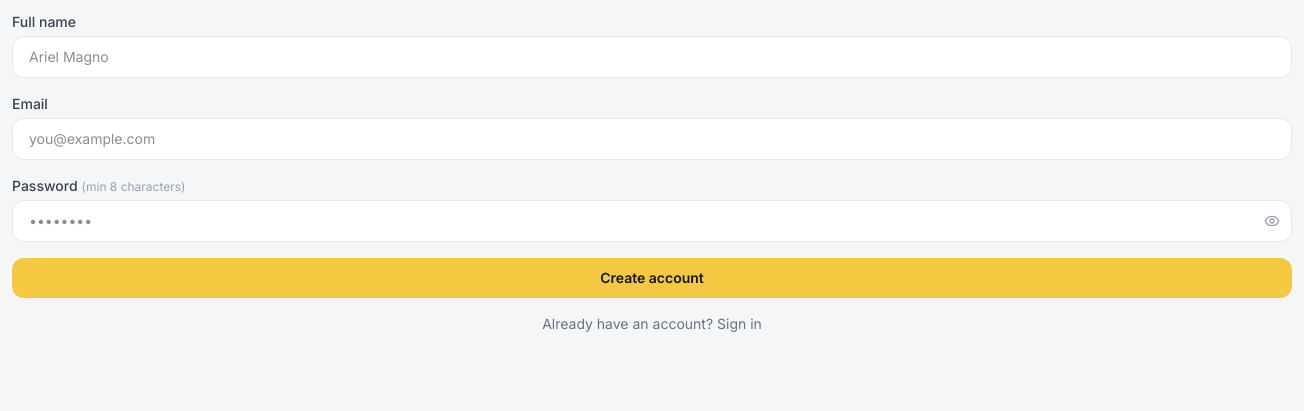
Test case: RegisterForm › clears the duplicate-email error when the user edits the email field
Type "Alice" into the field labelled "Full name" at [652, 57], box [12,36,1292,78]
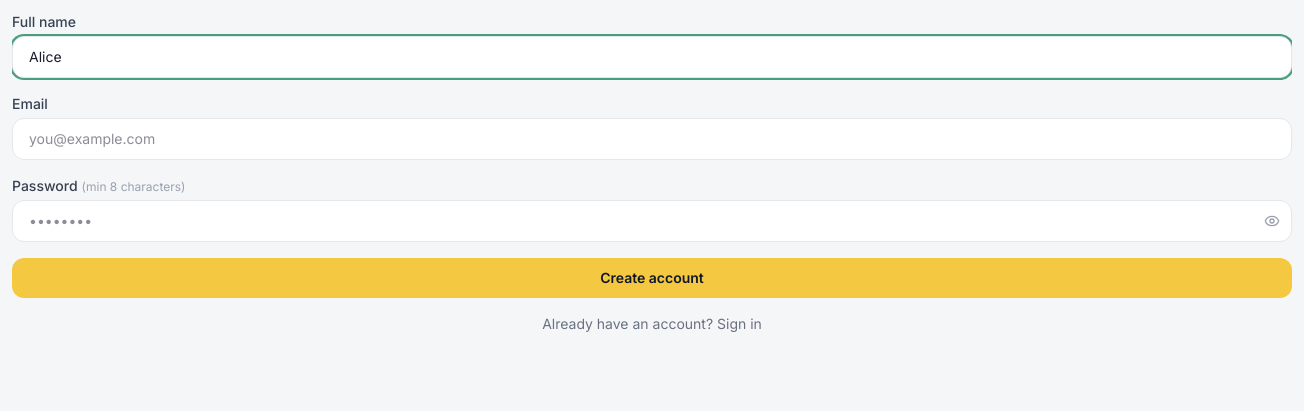
Type "alice@test.com" into the field labelled "Email" at [652, 139], box [12,118,1292,160]
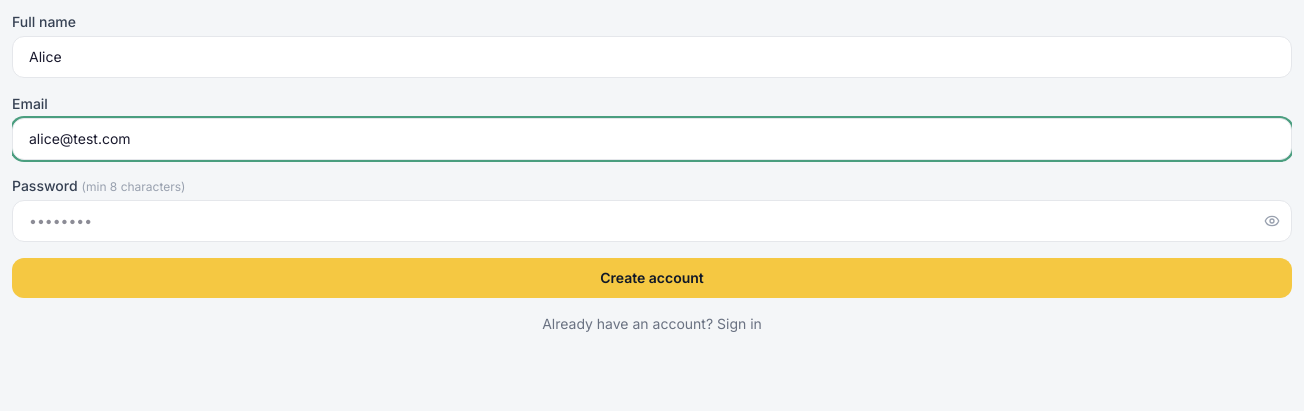
Type "password123" into the password field labelled "Password(min 8 characters)" at [652, 221], box [12,200,1292,242]
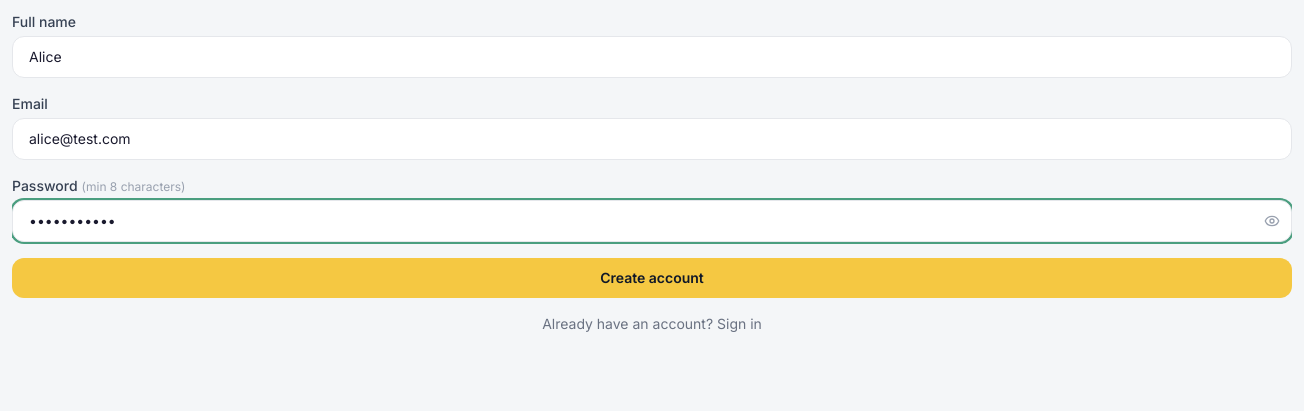
Click the button "Create account" at [652, 278], box [12,258,1292,298]
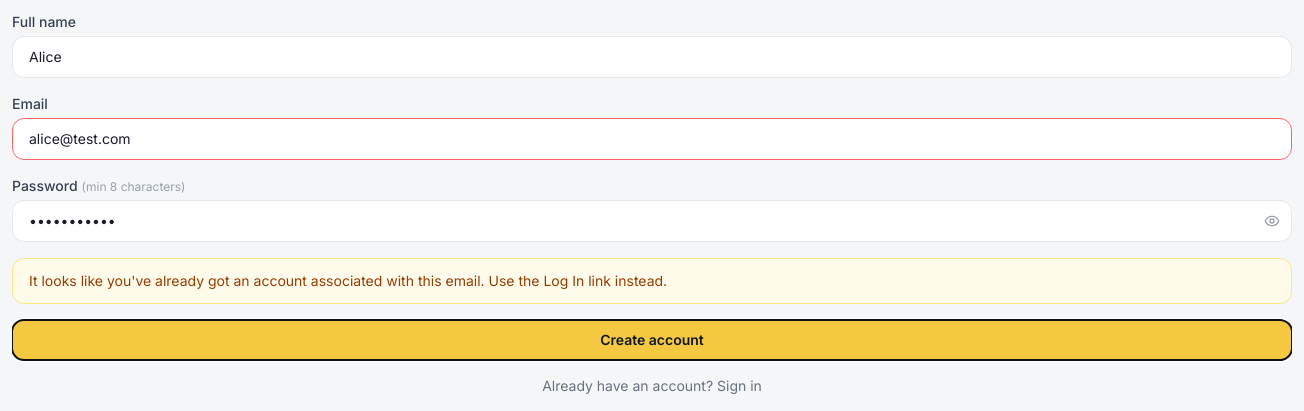
Check: the text "already got an account" is shown, box [29,272,485,289]
Type "x" into the field labelled "Email" at [652, 139], box [12,118,1292,160]
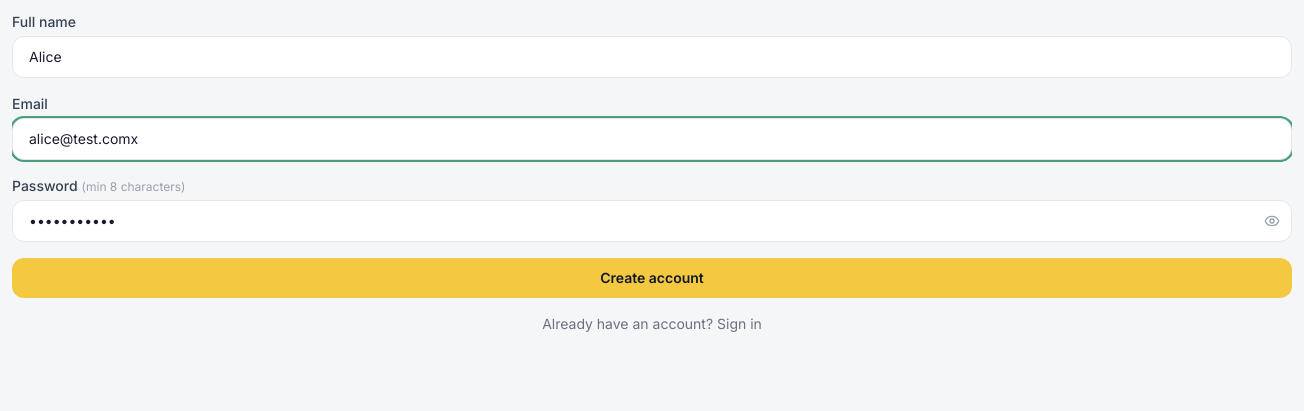
Check: the text "already got an account" is gone
